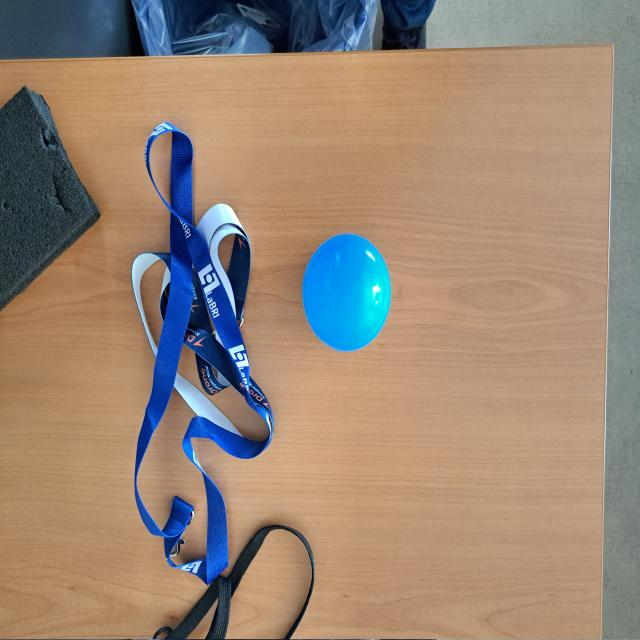blue: (300, 231, 394, 353)
